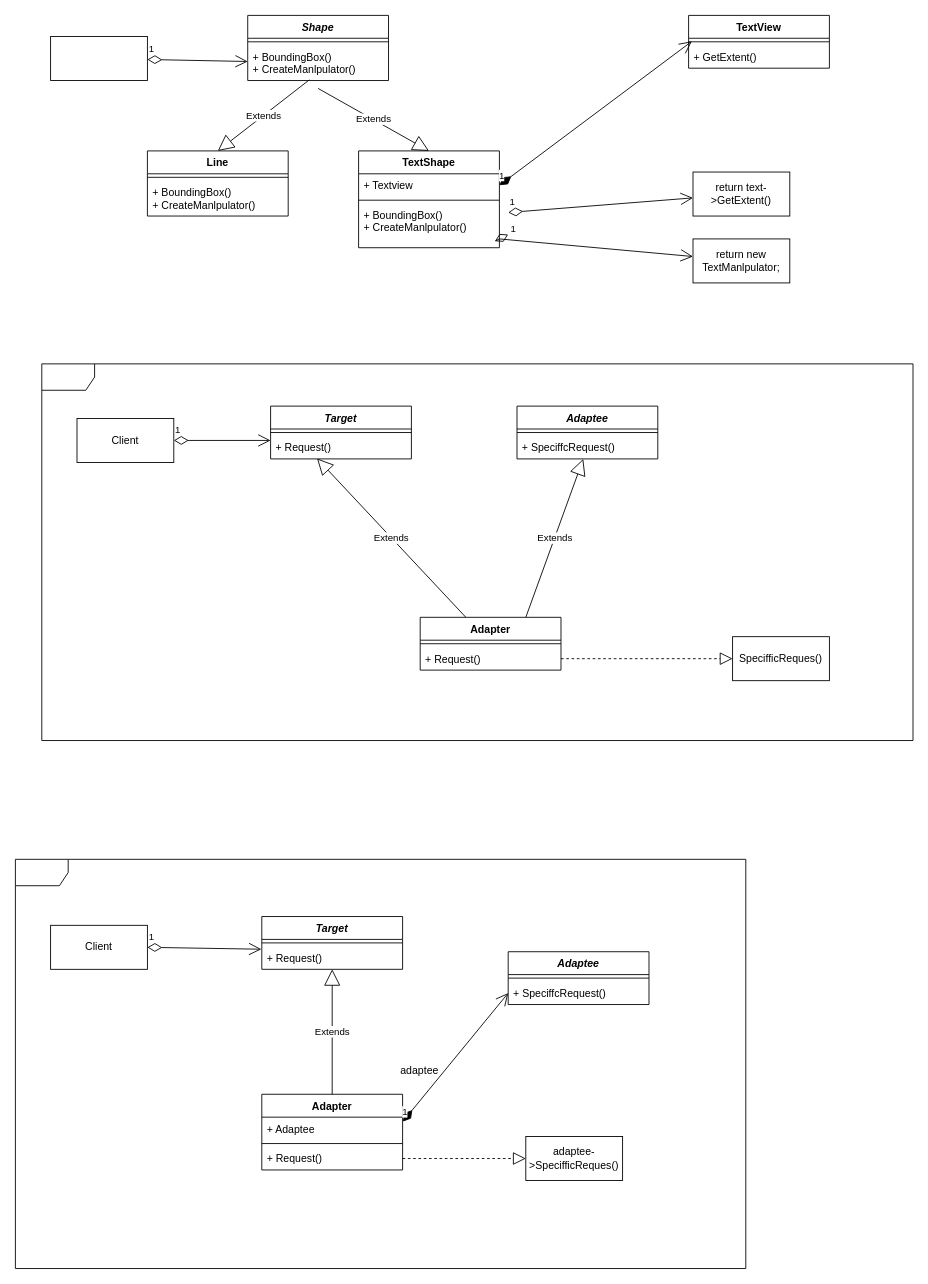
This 928x1284 diagram has some shape labels left out. Each missing label, with the centre of its shape:
"Class Adapter" goes at (x=477, y=552).
"DrawingEditor" goes at (x=98, y=58).
"Instance Adapter" goes at (x=380, y=1063).
